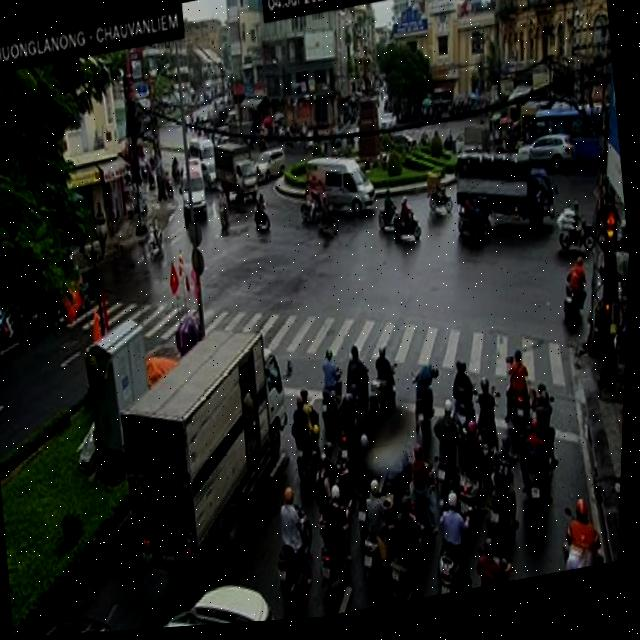Red: (599, 210, 628, 293), (601, 303, 619, 348)
